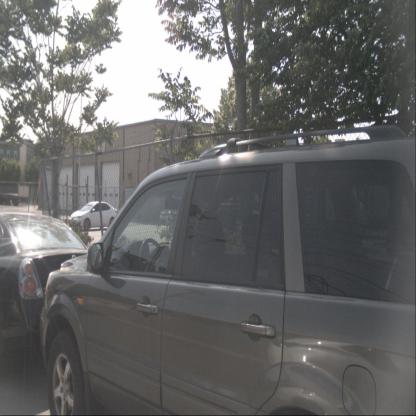vehicle-car: (38, 124, 415, 415), (0, 210, 96, 372), (69, 200, 118, 231), (158, 199, 192, 226)
